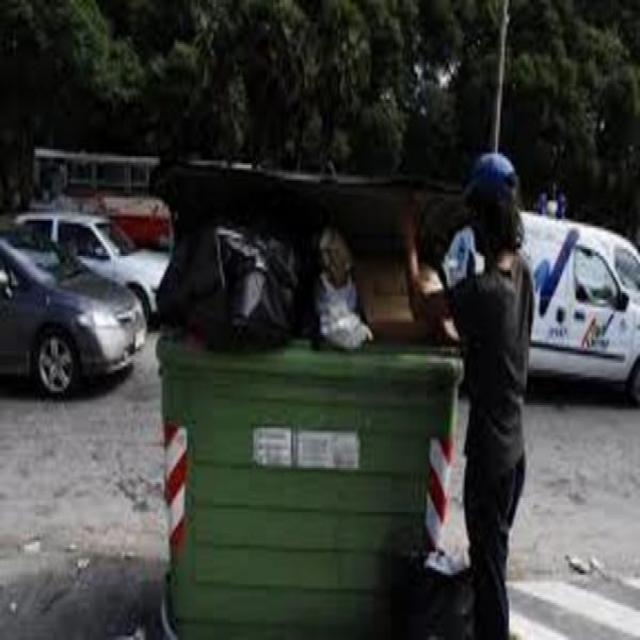garbage: (166, 204, 406, 398), (564, 546, 639, 594), (420, 542, 470, 582)
